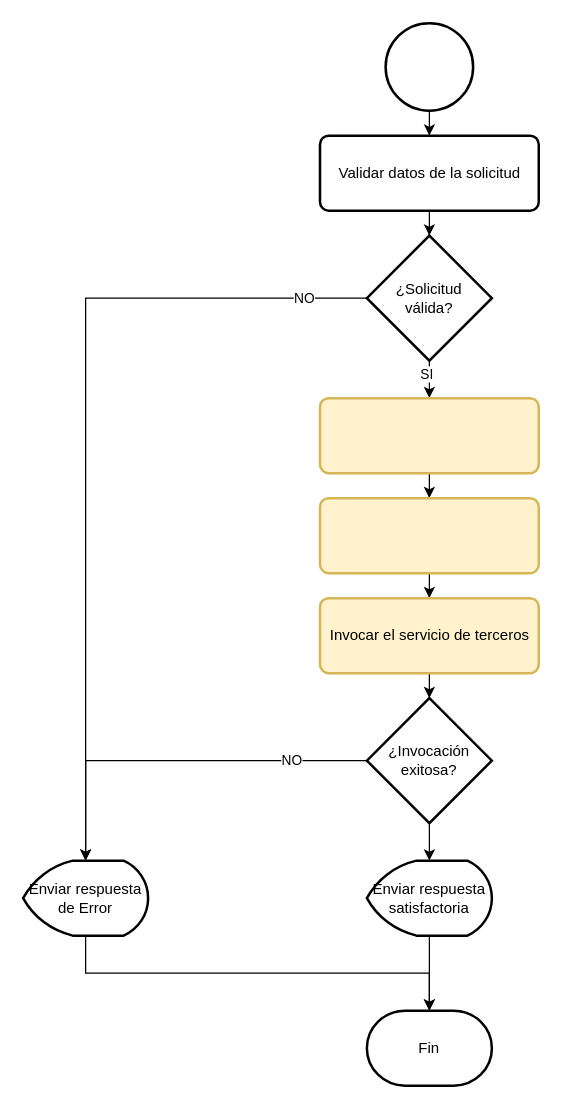
Some shapes in this 561 by 1108 pixel diagram are drawn without their labels. The centre of each missing label's shape, as x and y in pixels:
"Cargar archivos desde el almacenamiento remoto en memoria." goes at point (428, 435).
"Construir solicitud para servicio de terceros." goes at point (428, 535).
"Inicio" goes at point (429, 66).
